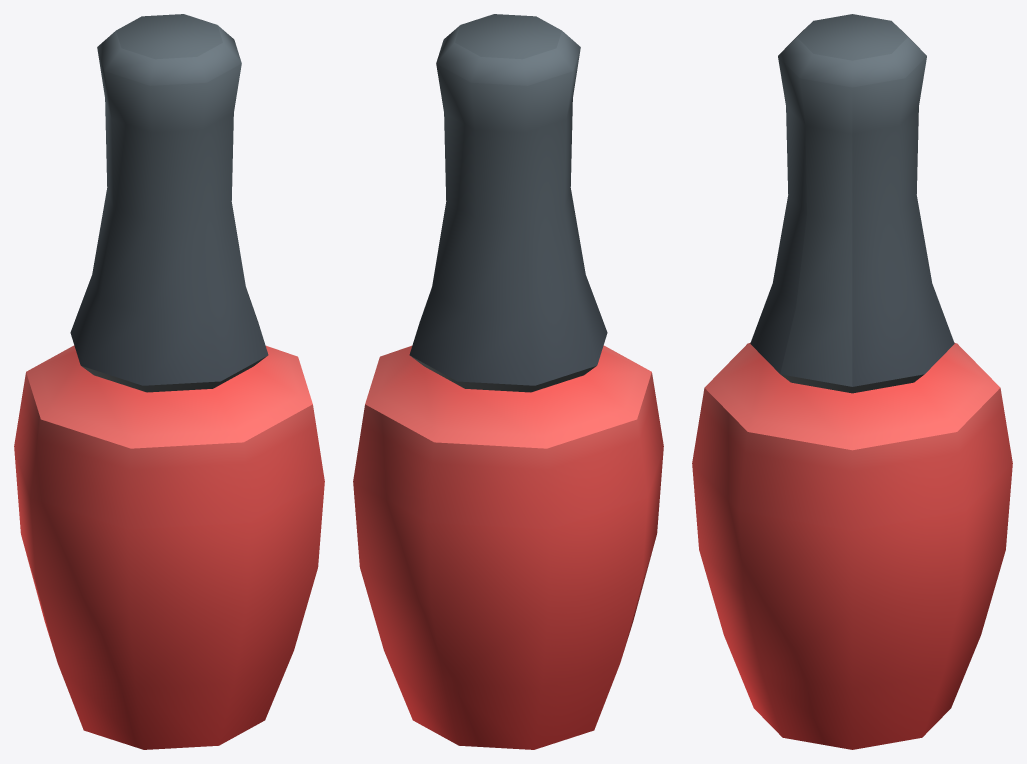
Rendered from NailPolish.fbx.
The picture shows the model from 3 angles, left to right: view 1: azimuth 30°, elevation 25°; view 2: azimuth 150°, elevation 25°; view 3: azimuth 270°, elevation 25°; orthographic projection.
Visible parts, largest first — view 1: NailPolish; view 2: NailPolish; view 3: NailPolish.
Boxes of the visible parts, x1,y1,x2,y2 form: NailPolish: (14, 14, 324, 749); NailPolish: (353, 14, 663, 749); NailPolish: (692, 14, 1012, 749).
Size of the model in its own units: 1.56 by 3.6 by 1.56.
